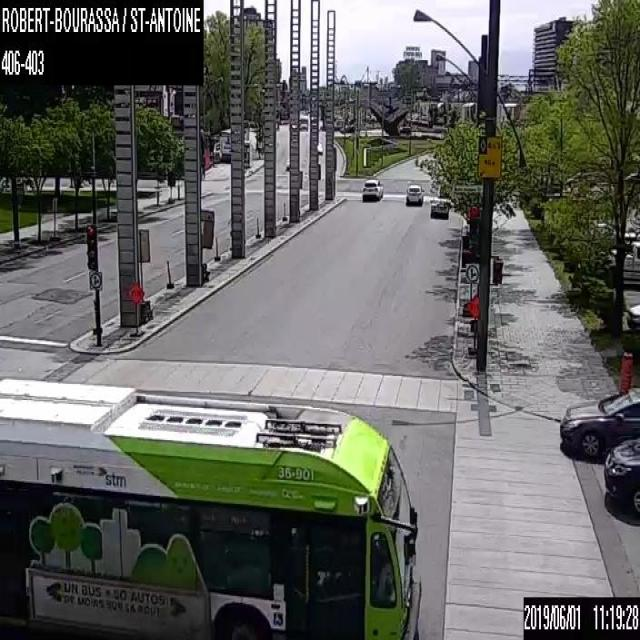bus: (0, 374, 420, 638)
construction: (127, 280, 145, 336), (466, 293, 479, 357), (49, 196, 60, 240)
vehicle: (558, 384, 639, 519), (361, 178, 383, 202), (430, 195, 448, 217), (405, 183, 423, 205), (626, 302, 639, 330), (298, 114, 308, 130), (339, 123, 354, 132), (399, 124, 409, 133), (317, 142, 322, 153)
